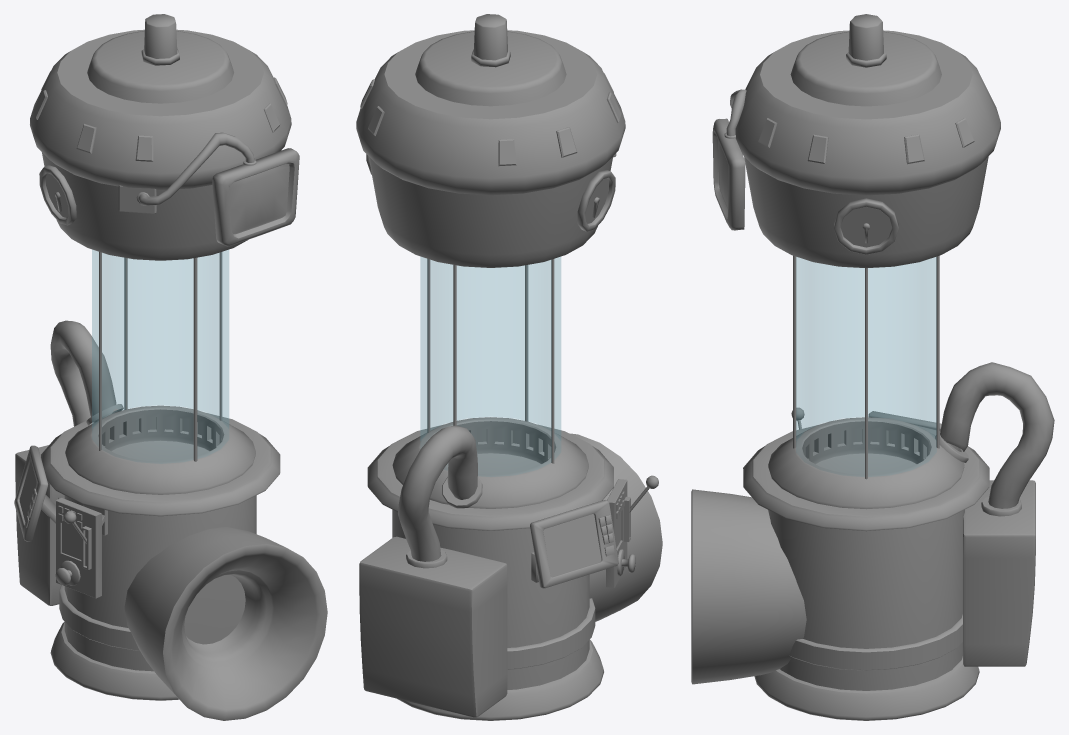
File: CloneMachine.FBX
The picture shows the model from 3 angles, left to right: view 1: azimuth 30°, elevation 25°; view 2: azimuth 150°, elevation 25°; view 3: azimuth 270°, elevation 25°; orthographic projection. The views are drawn at different scales.
Visible parts, largest first — view 1: Clone-Machine, Object012; view 2: Clone-Machine, Object012; view 3: Clone-Machine, Object012.
Boxes of the visible parts, x1,y1,x2,y2 form: Clone-Machine: (14, 14, 327, 720); Object012: (92, 250, 228, 463); Clone-Machine: (356, 14, 662, 720); Object012: (420, 257, 560, 476); Clone-Machine: (691, 14, 1054, 720); Object012: (796, 257, 936, 476).
Bounding box in the file's own units: 1.52 × 3.79 × 1.9.
